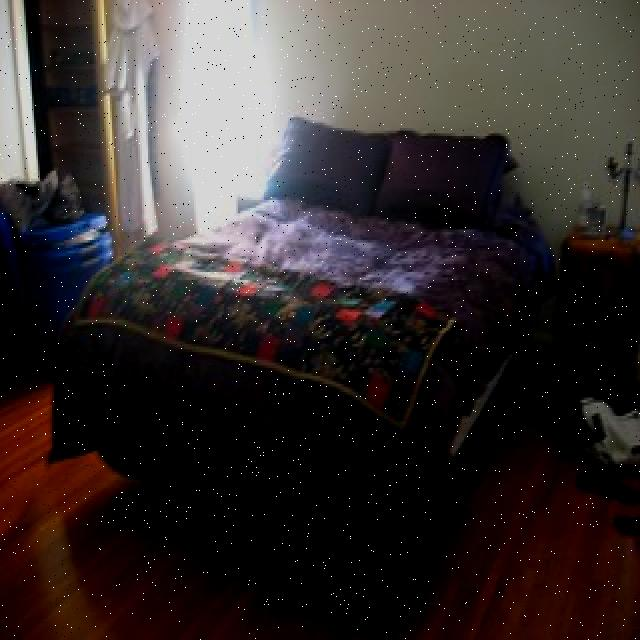bed: (55, 110, 558, 518)
